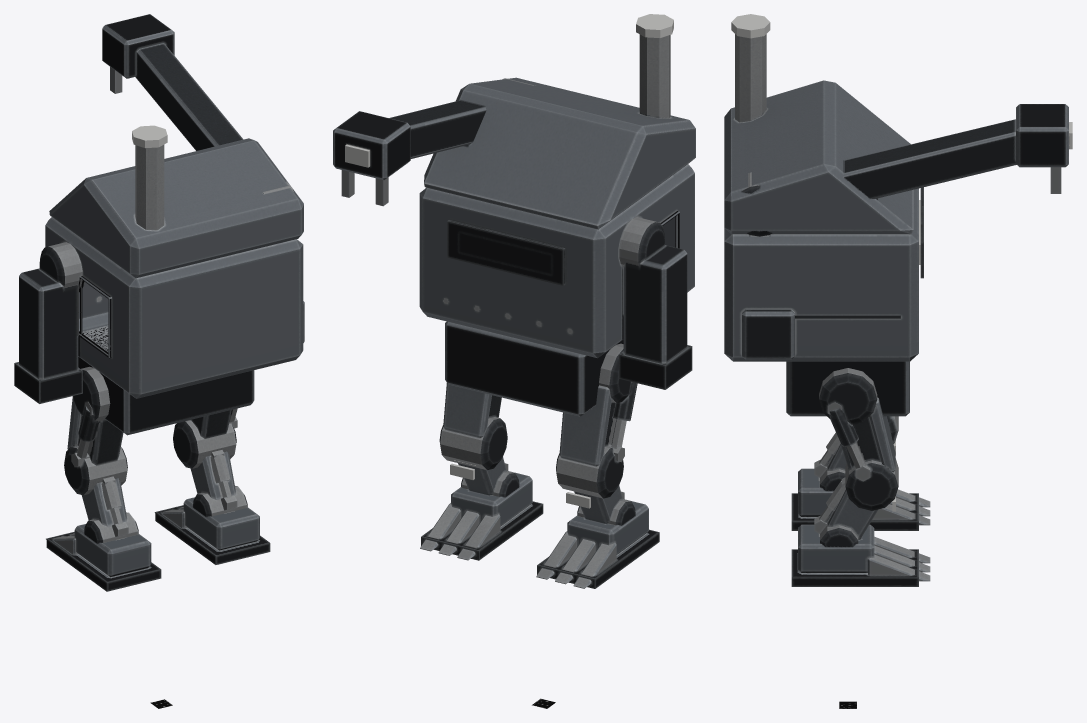
Rendered from chs_tinker.fbx.
3 views of the same model, side by side, from view 1: azimuth 30°, elevation 25°; view 2: azimuth 150°, elevation 25°; view 3: azimuth 270°, elevation 25° (orthographic). The views are drawn at different scales.
Parts seen in each view (by area): view 1: base_bar, nano_bar, thighL_bar, footL_bar, footR_bar, thighR_bar, shinR_bar, shinL_bar, base_glow_power_bar; view 2: base_bar, nano_bar, thighL_bar, footL_bar, footR_bar, thighR_bar, shinL_bar, shinR_bar, base_glow_power_bar; view 3: base_bar, nano_bar, thighR_bar, footR_bar, footL_bar, shinR_bar, shinL_bar, base_glow_power_bar.
Part boxes in pixels (x1,y1,x2,y2): base_bar: (14,138,304,435); nano_bar: (102,14,294,193); thighL_bar: (64,366,127,495); footL_bar: (46,524,161,591); footR_bar: (154,497,270,564); thighR_bar: (173,408,237,468); shinR_bar: (190,450,247,517); shinL_bar: (81,476,138,543); base_glow_power_bar: (132,125,167,148); base_bar: (419,34,695,416); nano_bar: (333,78,534,206); thighL_bar: (556,343,637,498); footL_bar: (536,499,659,588); footR_bar: (420,471,543,560); thighR_bar: (439,383,507,469); shinL_bar: (574,485,635,525); shinR_bar: (458,457,519,497); base_glow_power_bar: (636,14,673,37); base_bar: (724,34,923,416); nano_bar: (740,104,1068,236); thighR_bar: (819,368,898,510); footR_bar: (791,524,930,586); footL_bar: (791,468,930,530); shinR_bar: (814,477,878,547); shinL_bar: (814,432,846,490); base_glow_power_bar: (731,14,770,38).
Size of the model in its own units: 310 by 815 by 394.
2 materials, 2 textured.
